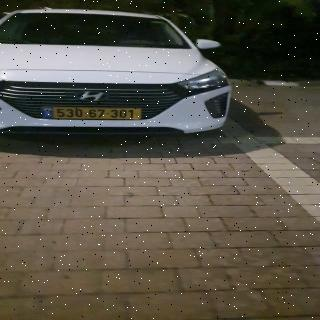LicensePlate: (53, 107, 141, 120)
